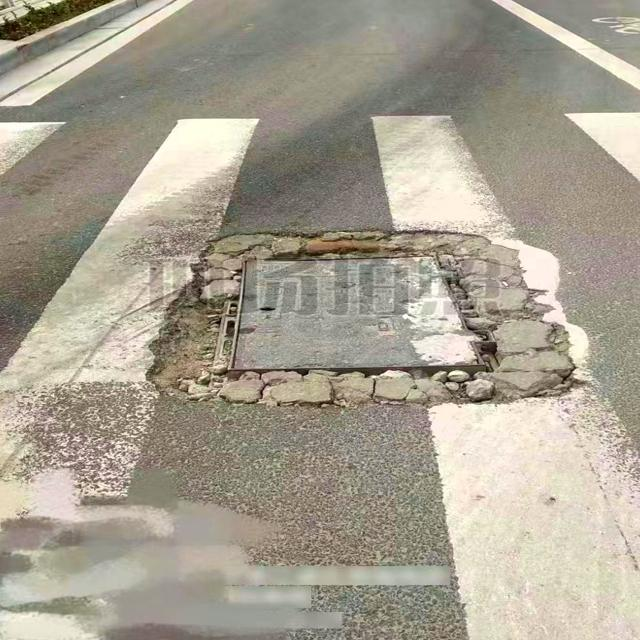circle: (248, 472, 640, 640)
